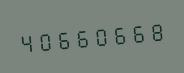eight: (150, 14, 168, 46)
four: (17, 26, 35, 57)
six: (55, 23, 73, 54), (74, 21, 92, 52), (112, 18, 130, 49), (131, 16, 149, 47)
zero: (36, 24, 54, 56), (93, 19, 111, 51)
